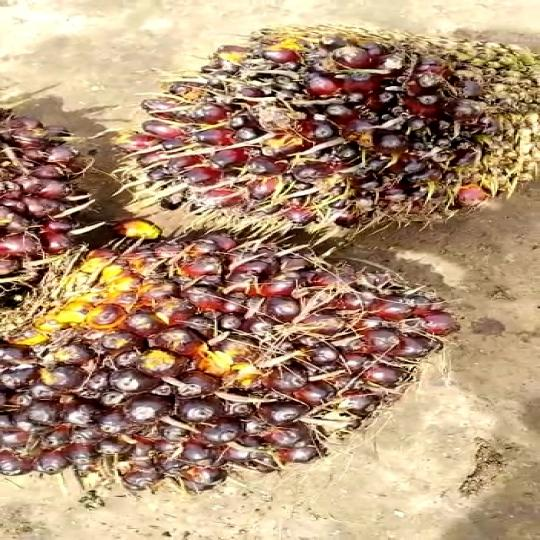kurang masak: (0, 234, 457, 491), (142, 19, 540, 228)
